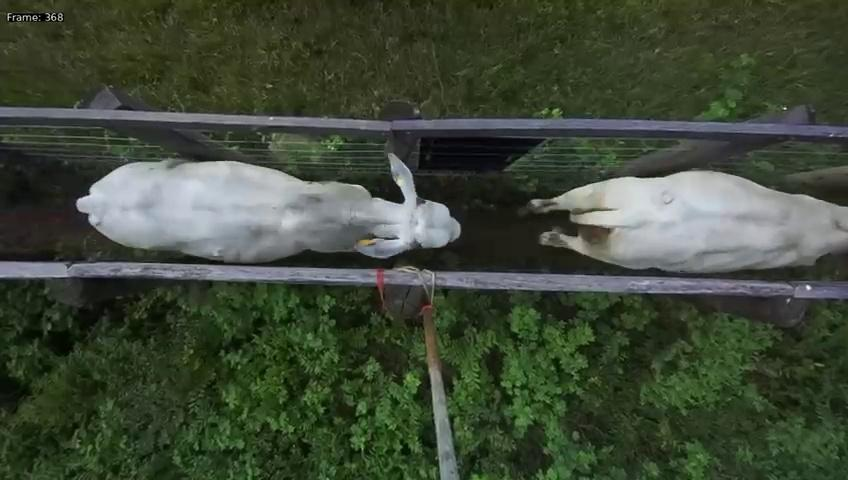cattle: (77, 140, 463, 265)
